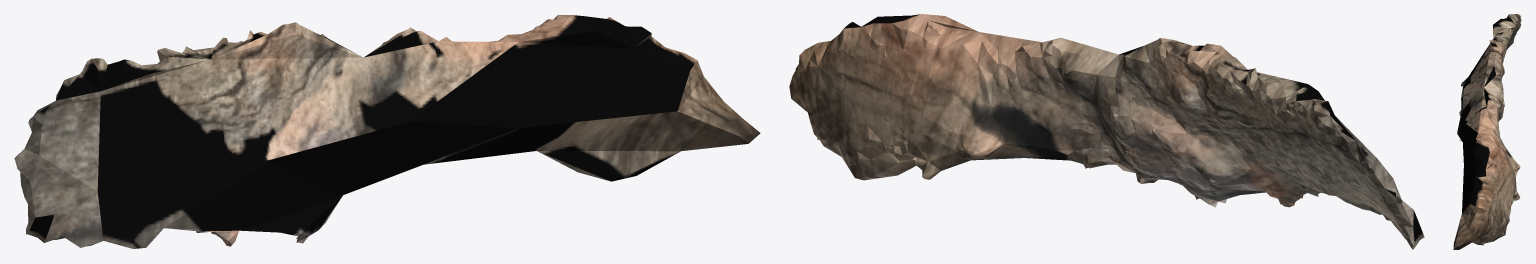
The picture shows the model from 3 angles, left to right: view 1: azimuth 30°, elevation 25°; view 2: azimuth 150°, elevation 25°; view 3: azimuth 270°, elevation 25°; orthographic projection. The views are drawn at different scales.
Visible parts, largest first — view 1: TexturedMesh; view 2: TexturedMesh; view 3: TexturedMesh.
Boxes of the visible parts, x1,y1,x2,y2 form: TexturedMesh: (14,15,760,248); TexturedMesh: (789,14,1424,249); TexturedMesh: (1453,14,1521,249).
Size of the model in its own units: 1.12 by 0.357 by 0.1928.
Materials: 1 (1 with a texture image).
